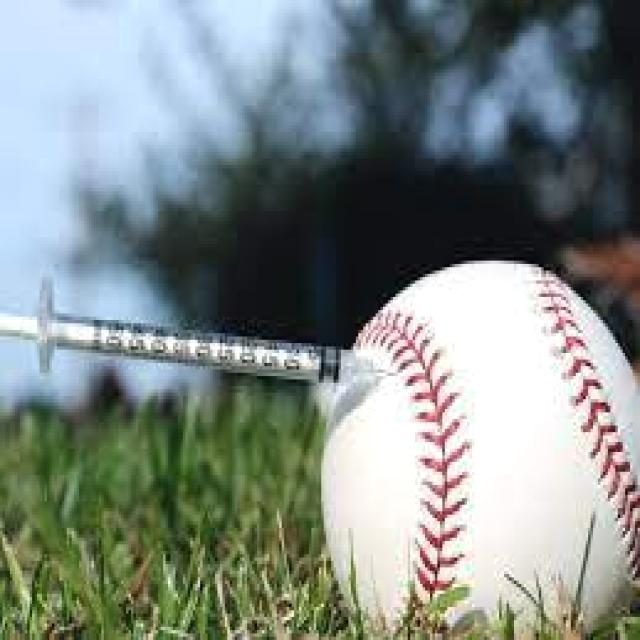ball: (316, 254, 640, 640)
